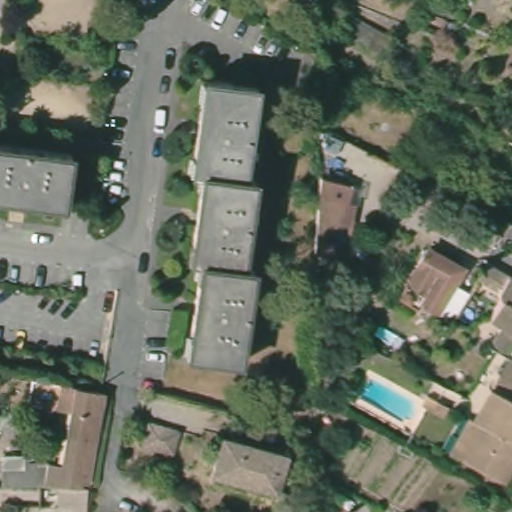pool: (354, 377, 421, 431)
